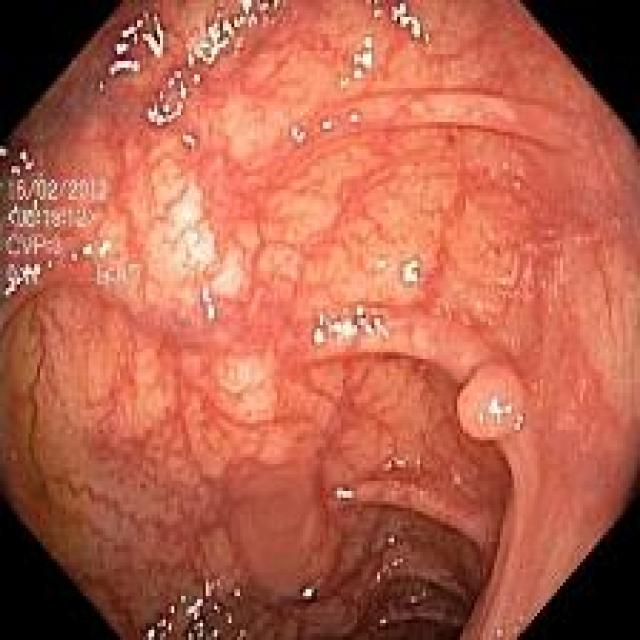Polyps: (458, 366, 525, 443)
